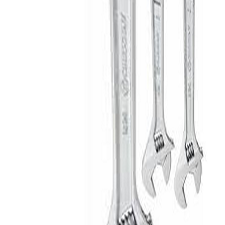Wrench: (105, 3, 212, 225)
